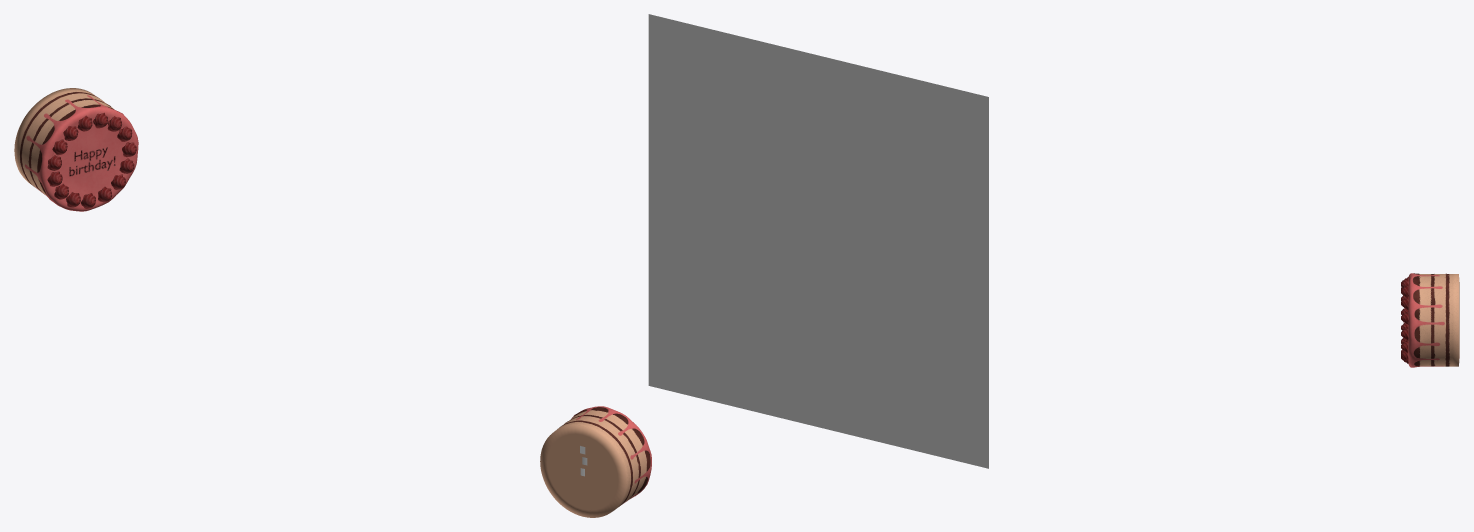
Rendered from Cake_Anim.glb.
3 views of the same model, side by side, from view 1: azimuth 30°, elevation 25°; view 2: azimuth 150°, elevation 25°; view 3: azimuth 270°, elevation 25° (orthographic). The views are drawn at different scales.
Visible parts, largest first — view 1: Cake.001; view 2: Plane.002, Cake.001; view 3: Cake.001.
Part boxes in pixels (x1,y1,x2,y2): Cake.001: [14, 88, 138, 211]; Plane.002: [648, 14, 988, 468]; Cake.001: [540, 406, 651, 517]; Cake.001: [1401, 273, 1459, 367].
Size of the model in its own units: 1.92 by 2 by 2.3.
Materials: 2 (1 with a texture image).
